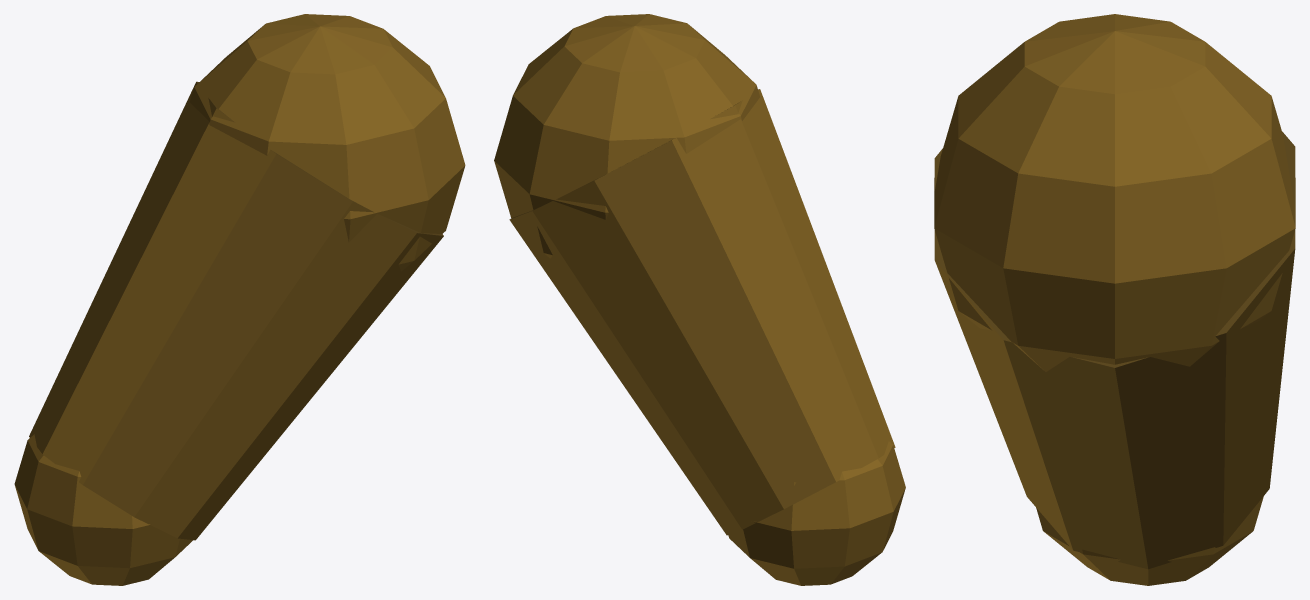
The model's file is SM_triceratops_fore_l_Upper.fbx.
3 views of the same model, side by side, from view 1: azimuth 30°, elevation 25°; view 2: azimuth 150°, elevation 25°; view 3: azimuth 270°, elevation 25° (orthographic). The views are drawn at different scales.
Visible parts, largest first — view 1: SM_triceratops_fore_l_Upper export; view 2: SM_triceratops_fore_l_Upper export; view 3: SM_triceratops_fore_l_Upper export.
Boxes of the visible parts, x1,y1,x2,y2 form: SM_triceratops_fore_l_Upper export: [14, 14, 465, 585]; SM_triceratops_fore_l_Upper export: [494, 14, 905, 585]; SM_triceratops_fore_l_Upper export: [934, 14, 1295, 585].
Bounding box in the file's own units: 167 × 98.91 × 201.
